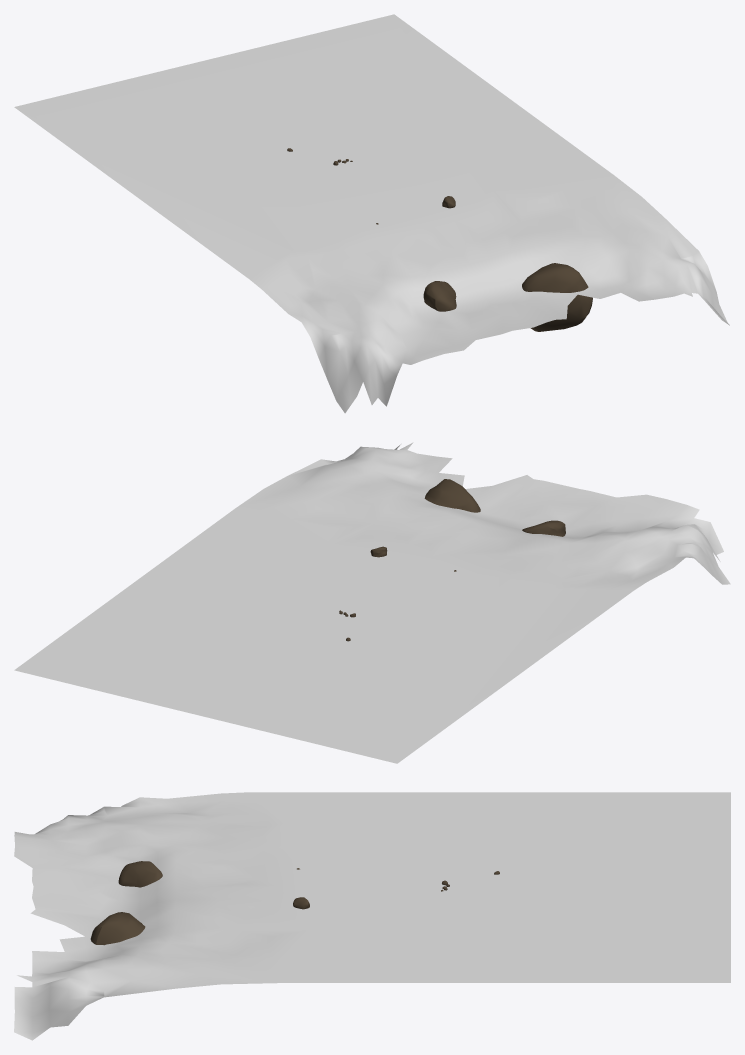
3 views of the same model, one above another, from view 1: azimuth 30°, elevation 25°; view 2: azimuth 150°, elevation 25°; view 3: azimuth 270°, elevation 25° (orthographic). The views are drawn at different scales.
Parts seen in each view (by area): view 1: TerrainMesh, Rocks; view 2: TerrainMesh, Rocks; view 3: TerrainMesh, Rocks.
Boxes of the visible parts, <box> form: TerrainMesh: <box>14,14,729,413</box>; Rocks: <box>287,148,592,331</box>; TerrainMesh: <box>14,442,730,763</box>; Rocks: <box>339,479,565,641</box>; TerrainMesh: <box>14,792,730,1040</box>; Rocks: <box>90,861,499,945</box>.
Bounding box in the file's own units: 2000 × 359 × 3177.
